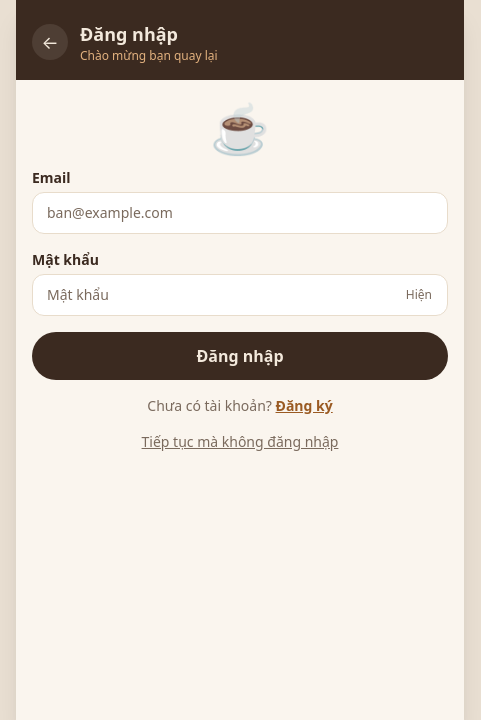
Scenario: Đăng nhập › sai tài khoản -> hiện lỗi từ máy chủ và không lưu token
The width and height of the screenshot is (481, 720).
Type "khong@co.vn" into the field labelled "Email".
click(240, 213); type("khong@co.vn")  # box [32,192,448,234]
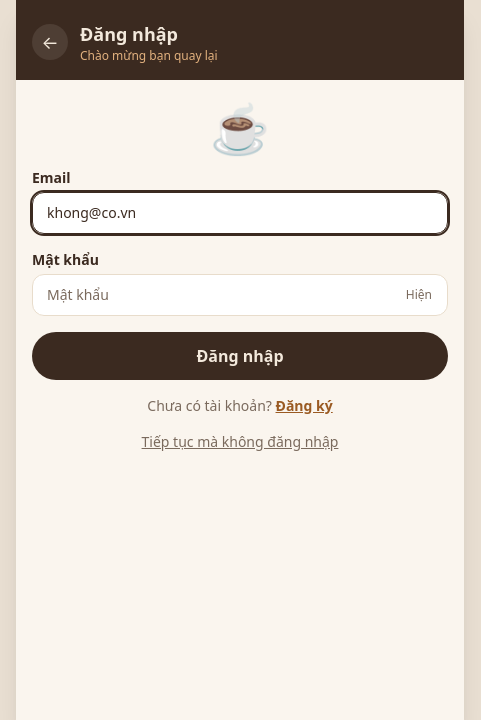
Type "abcdef" into the password field labelled "Mật khẩu".
click(240, 295); type("abcdef")  # box [32,274,448,316]
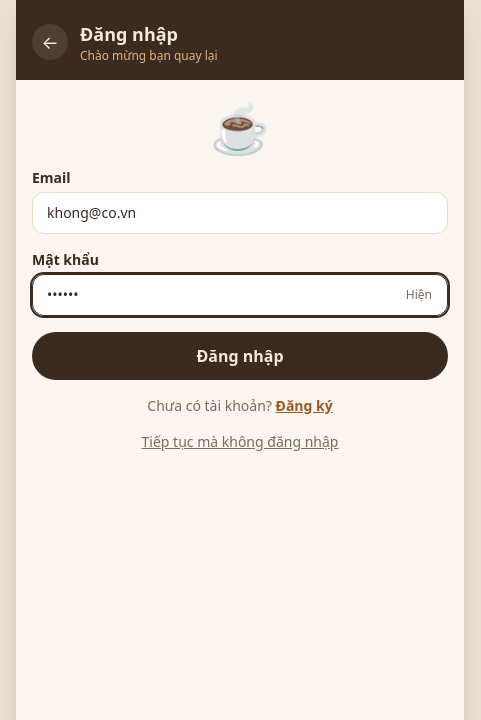
Click the button "Đăng nhập".
click(240, 356)  # box [32,332,448,380]
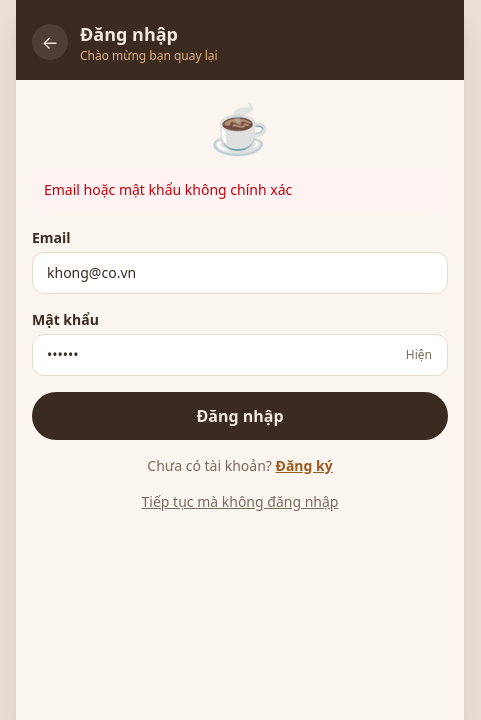
Now the message reads "Email hoặc mật khẩu không chính xác", box [44,180,292,199]
